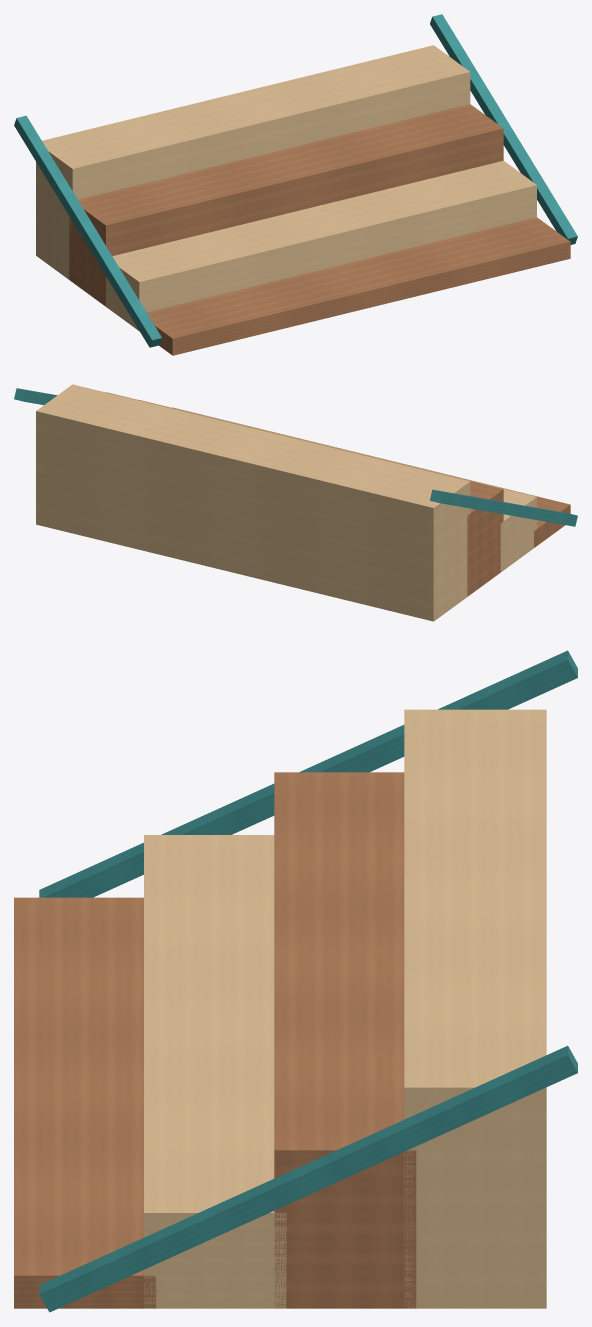
File: atlas100-s091-a10.glb
3 views of the same model, one above another, from view 1: azimuth 30°, elevation 25°; view 2: azimuth 150°, elevation 25°; view 3: azimuth 270°, elevation 25° (orthographic). The views are drawn at different scales.
Visible parts, largest first — view 1: atlas100-s091-a10:part-003, atlas100-s091-a10:part-002, atlas100-s091-a10:part-001, atlas100-s091-a10:part-000, atlas100-s091-a10:part-004, atlas100-s091-a10:part-005; view 2: atlas100-s091-a10:part-003, atlas100-s091-a10:part-002, atlas100-s091-a10:part-001, atlas100-s091-a10:part-004, atlas100-s091-a10:part-000, atlas100-s091-a10:part-005; view 3: atlas100-s091-a10:part-003, atlas100-s091-a10:part-002, atlas100-s091-a10:part-001, atlas100-s091-a10:part-000, atlas100-s091-a10:part-005, atlas100-s091-a10:part-004.
Part boxes in pixels (<box>): atlas100-s091-a10:part-003: <box>36,45,470,279</box>; atlas100-s091-a10:part-002: <box>69,104,503,306</box>; atlas100-s091-a10:part-001: <box>106,160,536,330</box>; atlas100-s091-a10:part-000: <box>137,217,570,355</box>; atlas100-s091-a10:part-004: <box>14,115,161,347</box>; atlas100-s091-a10:part-005: <box>430,14,577,244</box>; atlas100-s091-a10:part-003: <box>36,384,470,621</box>; atlas100-s091-a10:part-002: <box>106,392,503,596</box>; atlas100-s091-a10:part-001: <box>139,400,536,572</box>; atlas100-s091-a10:part-004: <box>430,489,577,526</box>; atlas100-s091-a10:part-000: <box>172,407,570,547</box>; atlas100-s091-a10:part-005: <box>14,388,56,404</box>; atlas100-s091-a10:part-003: <box>404,709,546,1308</box>; atlas100-s091-a10:part-002: <box>274,772,416,1308</box>; atlas100-s091-a10:part-001: <box>144,835,286,1308</box>; atlas100-s091-a10:part-000: <box>14,897,156,1308</box>; atlas100-s091-a10:part-005: <box>39,1045,577,1312</box>; atlas100-s091-a10:part-004: <box>39,650,577,897</box>.
Size of the model in its own units: 2.36 by 0.7246 by 1.39.
Materials: 3 (3 with a texture image).
